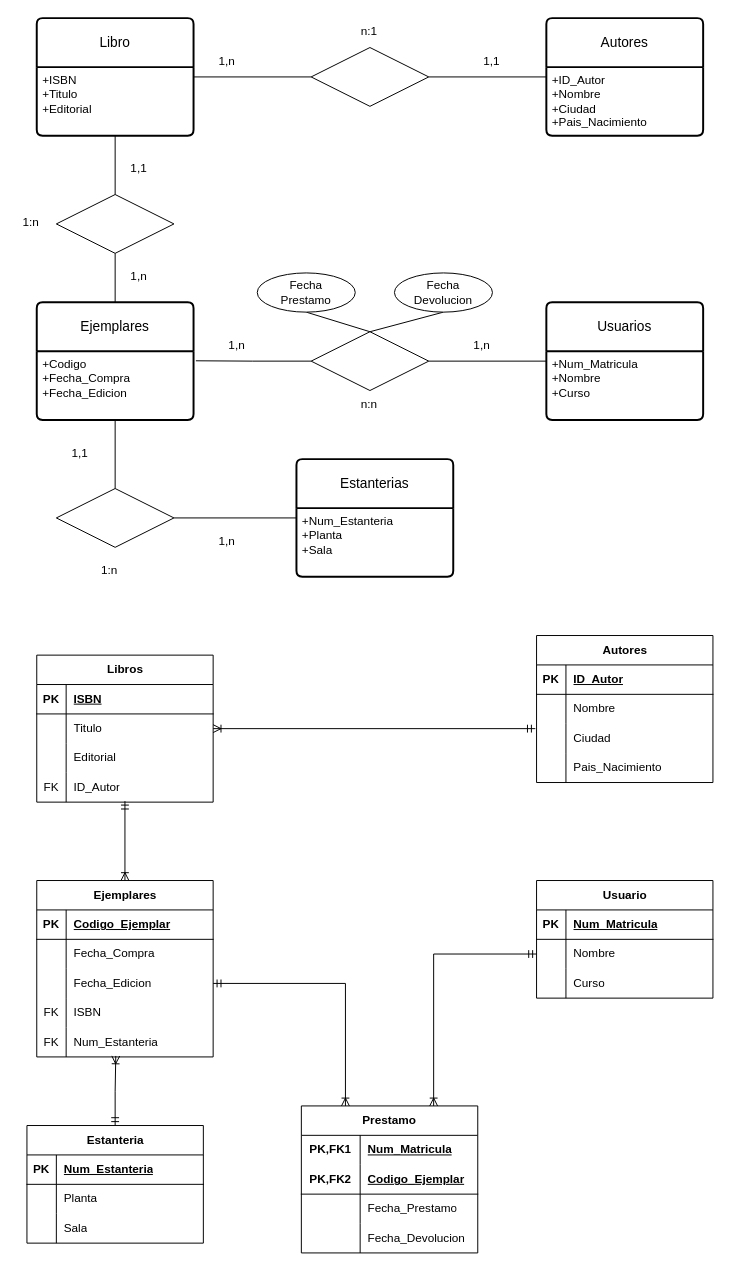
This 730x1270 diagram has some shape labels left out. Here are the shapes that lost their labels. From the top down, the centre of each, then its label:
At point (369, 76): "Escrito".
At point (114, 223): "Existe".
At point (369, 361): "Prestados".
At point (114, 517): "Almacenado".
